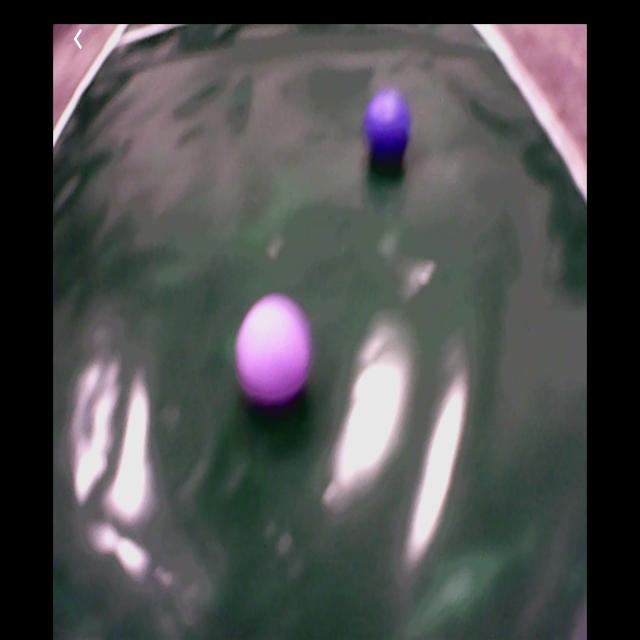ball: (239, 296, 310, 404), (366, 96, 411, 160)
